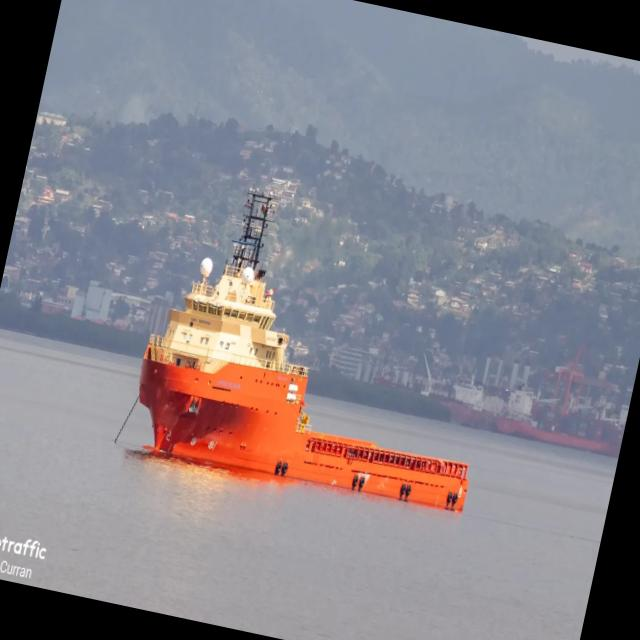Offshore: (137, 188, 468, 511)
